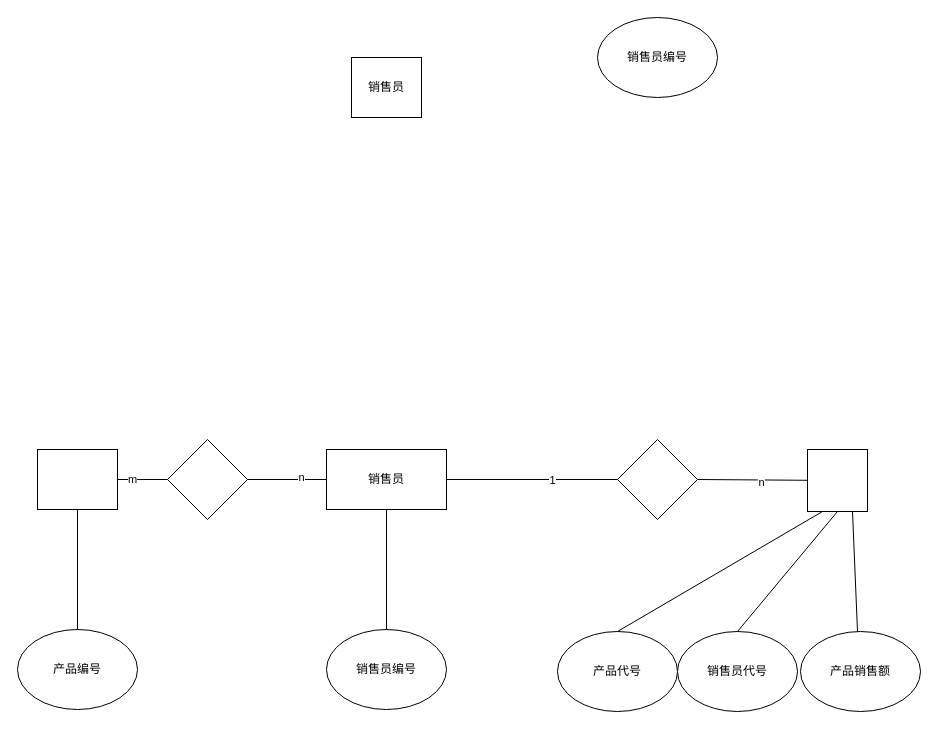
Some shapes in this 938 by 729 pixel diagram are drawn without their labels. Here are the shapes that lost their labels. From the top down, the centre of each, then its label:
At point 77,479: "销售产品".
At point 207,479: "负责".
At point 657,479: "上缴".
At point 837,480: "销售纸条".
